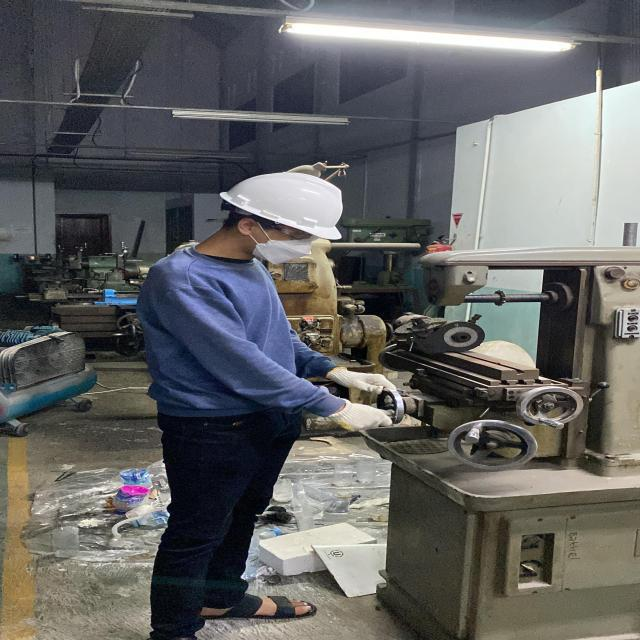glasses: (258, 219, 322, 243)
